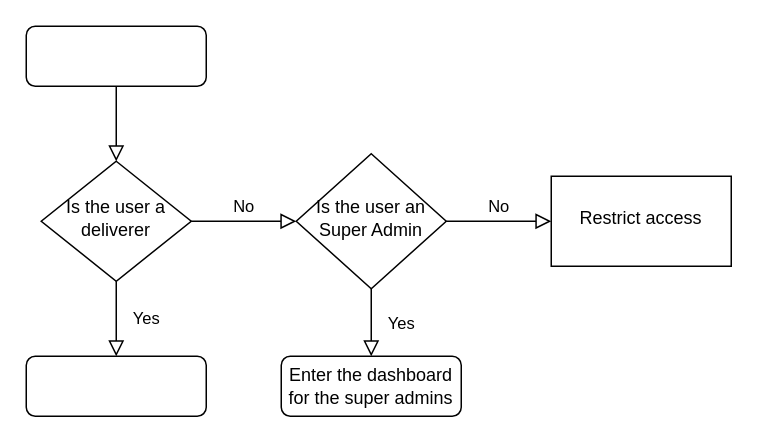
Image size: 758x443. Some labels were removed from this diagram. The box of each missing label's shape, as (x1, y1, x2, y2) in pixels:
Enter the admin dashboard: (25, 355, 206, 416)
Login User: (25, 25, 206, 86)
